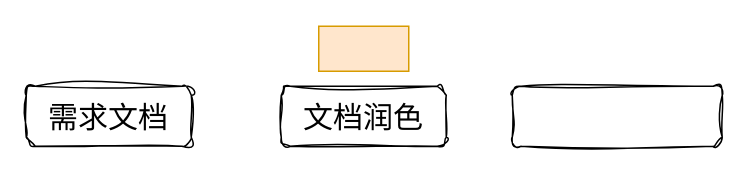
Image size: 749x173. Some labels were removed from this diagram. Each missing label, with the centre of its shape:
Agent: point 363,48
功能点拆解: point 616,115
